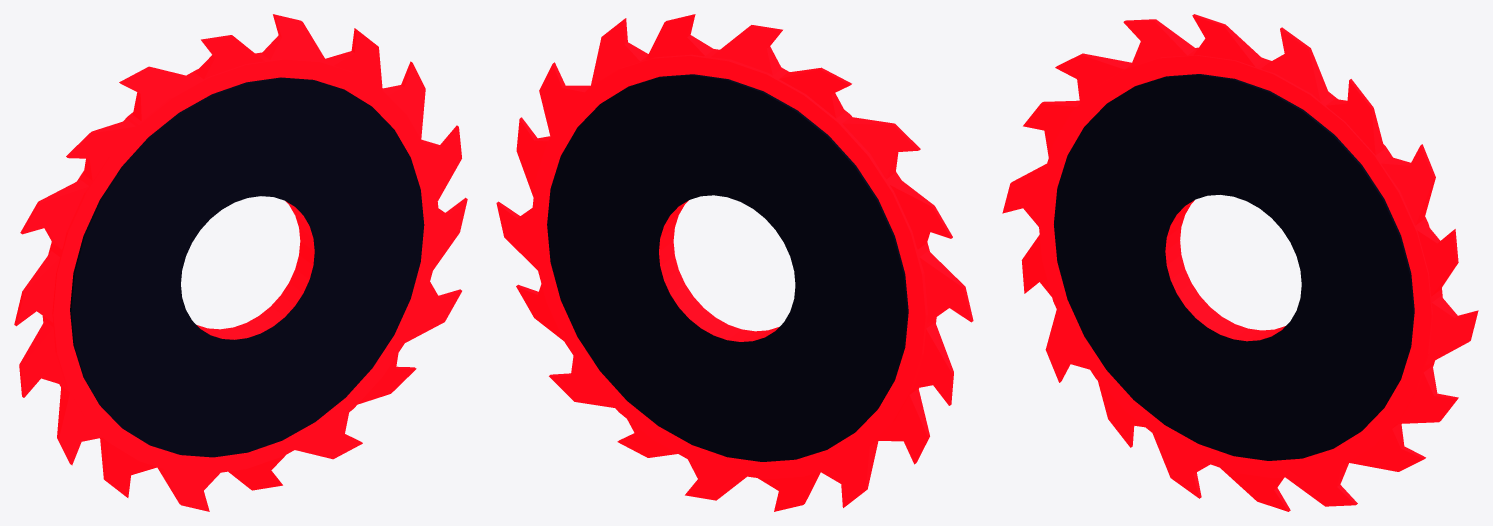
The model's file is Sawblade.fbx.
3 renders of one model, left to right at view 1: azimuth 30°, elevation 25°; view 2: azimuth 150°, elevation 25°; view 3: azimuth 330°, elevation 25°, orthographic. The views are drawn at different scales.
Visible parts, largest first — view 1: Cylinder, Cylinder.001, Cylinder.002, Cube.003, Cube.001, Cube.005, Cube.017, Cube.004, Cube.002, Cube.006, Cube, Cube.016 (+9 smaller); view 2: Cylinder, Cylinder.001, Cylinder.002, Cube.002, Cube.004, Cube, Cube.003, Cube.005, Cube.006, Cube.001, Cube.016, Cube.017 (+9 smaller); view 3: Cylinder, Cylinder.001, Cylinder.002, Cube.015, Cube.017, Cube.013, Cube.001, Cube.016, Cube, Cube.014, Cube.011, Cube.012 (+9 smaller).
Boxes of the visible parts, box(x1,y1,x2,y2) form: Cylinder: box(70, 77, 424, 457); Cylinder.001: box(42, 52, 439, 474); Cylinder.002: box(197, 201, 314, 339); Cube.003: box(20, 180, 88, 249); Cube.001: box(119, 66, 197, 121); Cube.005: box(19, 321, 66, 397); Cube.017: box(261, 14, 327, 63); Cube.004: box(14, 251, 60, 326); Cube.002: box(66, 120, 135, 180); Cube.006: box(57, 386, 103, 465); Cube: box(195, 35, 264, 79); Cube.016: box(325, 28, 382, 89); Cylinder: box(547, 74, 908, 461); Cylinder.001: box(531, 49, 936, 479); Cylinder.002: box(659, 200, 778, 341); Cube.002: box(842, 117, 920, 178); Cube.004: box(919, 250, 973, 323); Cube: box(711, 25, 782, 75); Cube.003: box(890, 178, 952, 249); Cube.005: box(913, 322, 953, 405); Cube.006: box(875, 388, 929, 464); Cube.001: box(779, 67, 851, 118); Cube.016: box(590, 18, 648, 86); Cube.017: box(646, 14, 713, 59); Cylinder: box(1054, 74, 1414, 460); Cylinder.001: box(1038, 47, 1442, 478); Cylinder.002: box(1165, 200, 1285, 341); Cube.015: box(1381, 144, 1435, 225); Cube.017: box(1261, 27, 1329, 101); Cube.013: box(1425, 296, 1478, 365); Cube.001: box(1123, 19, 1195, 66); Cube.016: box(1326, 79, 1384, 155); Cube: box(1192, 14, 1264, 66); Cube.014: box(1417, 223, 1458, 296); Cube.011: box(1348, 424, 1425, 471); Cube.012: box(1396, 366, 1458, 423).
Bounding box in the file's own units: 3.94 × 3.89 × 0.215.
